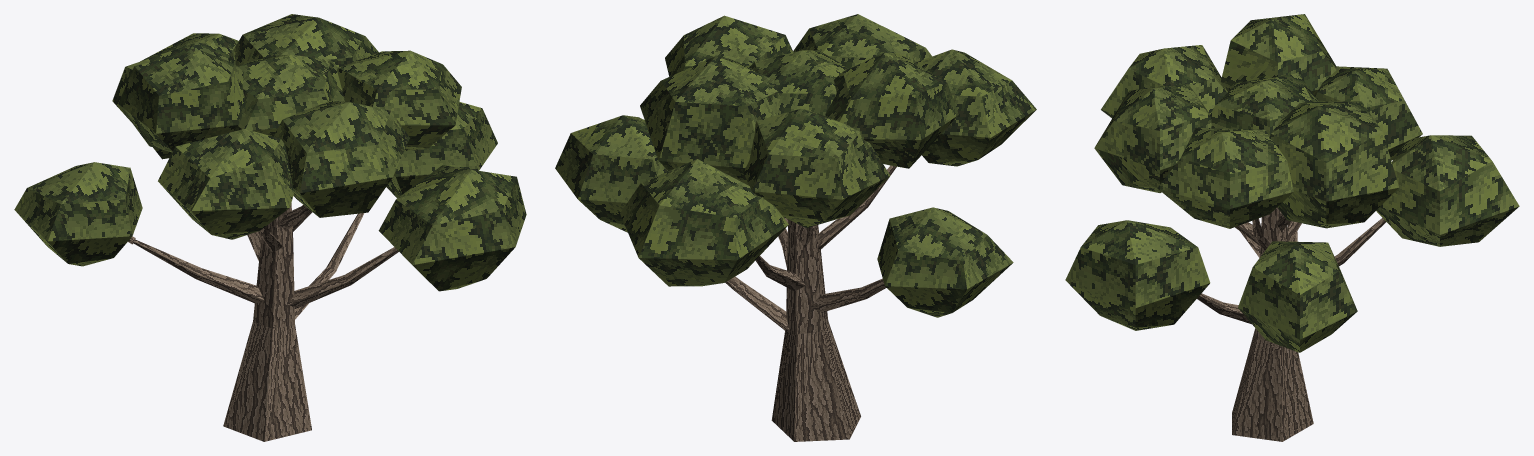
Rendered from TREE_Oak_C_LOD2.glb.
3 views of the same model, side by side, from view 1: azimuth 30°, elevation 25°; view 2: azimuth 150°, elevation 25°; view 3: azimuth 270°, elevation 25° (orthographic). The views are drawn at different scales.
Visible parts, largest first — view 1: TREE_Oak_C_LOD2__Foliage, TREE_Oak_C_LOD2__Bark; view 2: TREE_Oak_C_LOD2__Foliage, TREE_Oak_C_LOD2__Bark; view 3: TREE_Oak_C_LOD2__Foliage, TREE_Oak_C_LOD2__Bark.
Boxes of the visible parts, bbox=[...] form: TREE_Oak_C_LOD2__Foliage: bbox=[14, 14, 526, 291]; TREE_Oak_C_LOD2__Bark: bbox=[128, 203, 398, 441]; TREE_Oak_C_LOD2__Foliage: bbox=[555, 14, 1036, 317]; TREE_Oak_C_LOD2__Bark: bbox=[725, 165, 896, 441]; TREE_Oak_C_LOD2__Foliage: bbox=[1065, 14, 1519, 352]; TREE_Oak_C_LOD2__Bark: bbox=[1197, 207, 1385, 441].
Bounding box in the file's own units: 10.09 × 8.25 × 9.13.
2 materials, 2 textured.
